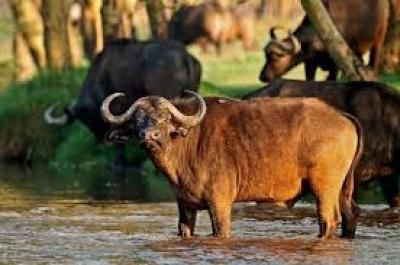buffalo: (78, 42, 364, 241)
